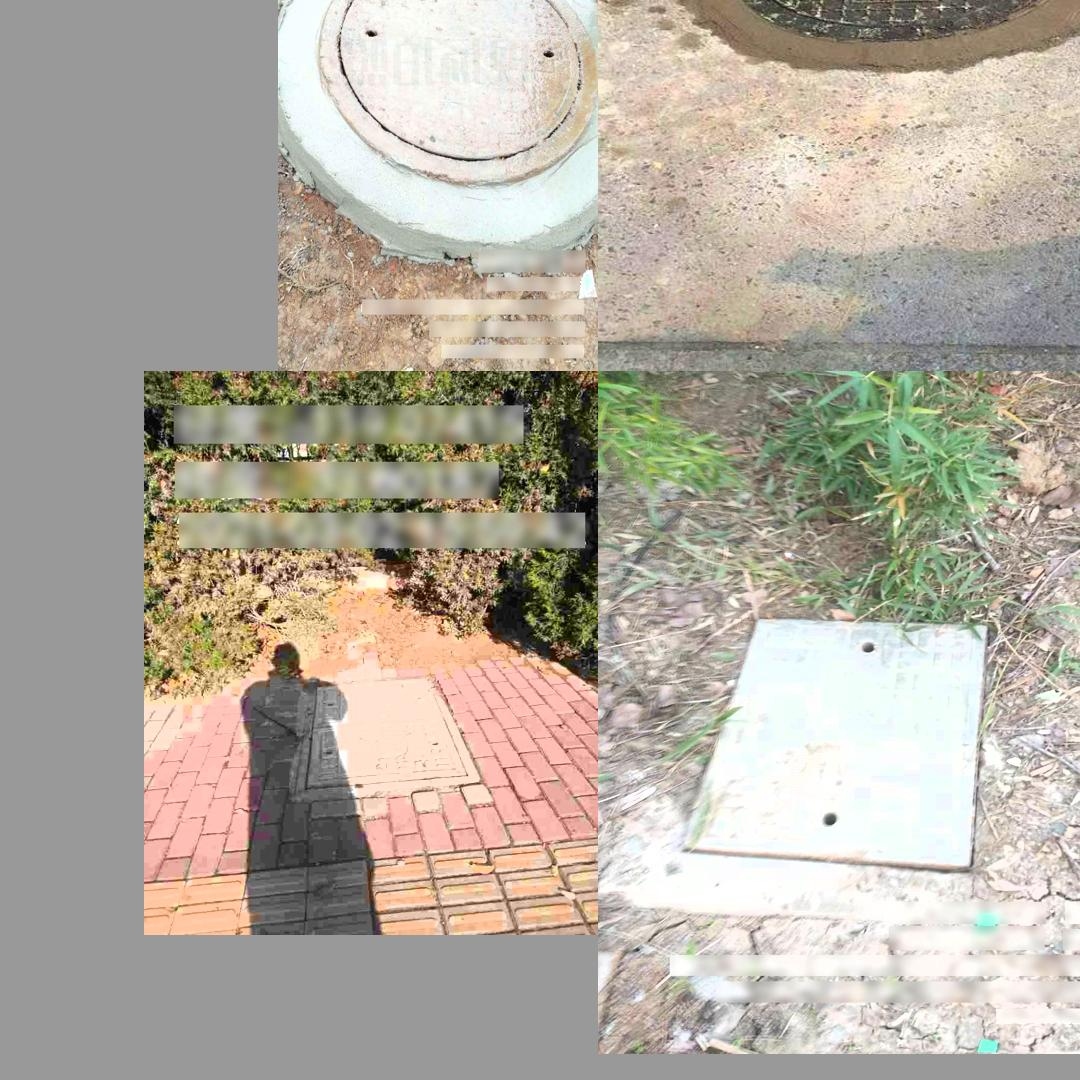good: (679, 616, 989, 874), (320, 0, 597, 185), (650, 0, 1080, 76), (296, 673, 481, 799)
